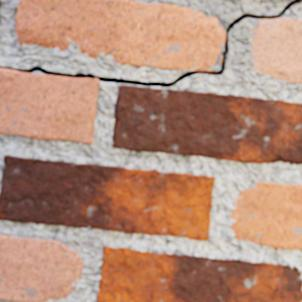brick: (0, 155, 214, 239), (113, 85, 301, 164), (16, 0, 224, 71), (98, 246, 301, 301), (0, 68, 99, 143), (0, 234, 83, 301), (229, 182, 301, 248), (251, 18, 301, 83)
crack: (0, 0, 300, 87)
